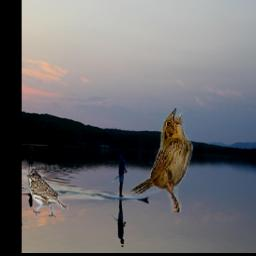Sparrow: (129, 107, 193, 213), (27, 167, 68, 218)
